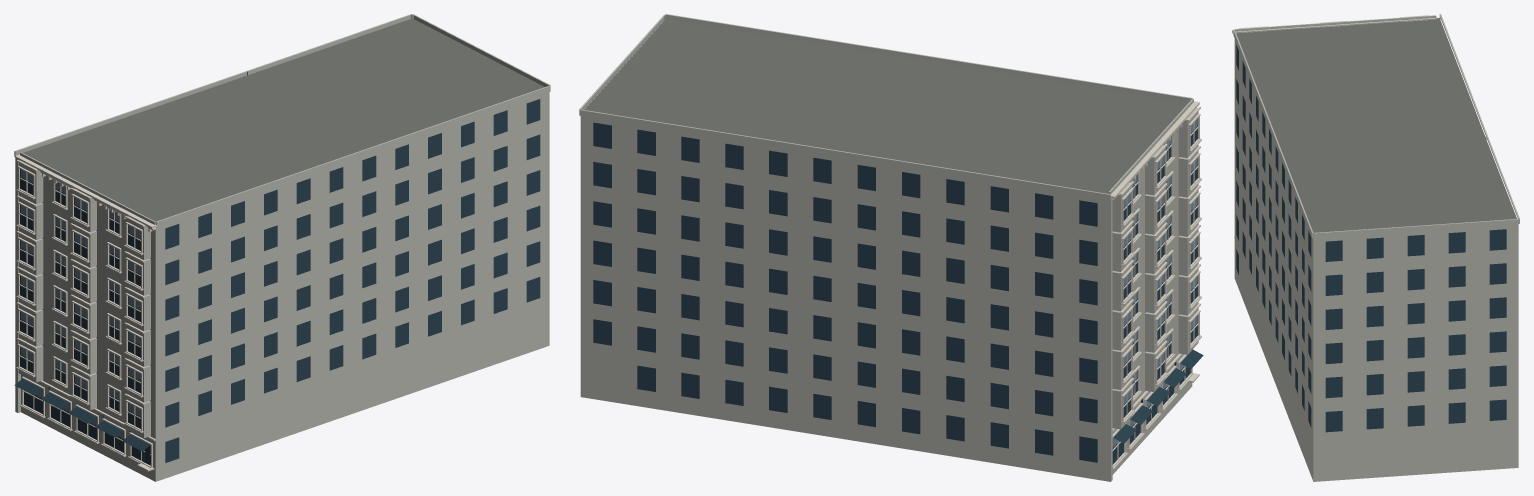
3 renders of one model, left to right at view 1: azimuth 30°, elevation 25°; view 2: azimuth 150°, elevation 25°; view 3: azimuth 270°, elevation 25°, orthographic. The views are drawn at different scales.
Parts seen in each view (by area): view 1: Footprint 0 / surface 2, Footprint 0 / surface 1, Inset glazing, Facade bay volumes, Cornices and window frames, Sky reflection panels, Storefronts and doors; view 2: Footprint 0 / surface 2, Footprint 0 / surface 1, Inset glazing, Facade bay volumes, Cornices and window frames, Sky reflection panels, Storefronts and doors; view 3: Footprint 0 / surface 2, Footprint 0 / surface 1, Inset glazing, Facade bay volumes, Cornices and window frames.
Part boxes in pixels (x1=…): Footprint 0 / surface 2: x1=15, y1=92, x2=549, y2=481; Footprint 0 / surface 1: x1=15, y1=18, x2=544, y2=221; Inset glazing: x1=20, y1=99, x2=540, y2=465; Facade bay volumes: x1=14, y1=14, x2=550, y2=437; Cornices and window frames: x1=15, y1=154, x2=156, y2=471; Sky reflection panels: x1=20, y1=169, x2=150, y2=452; Storefronts and doors: x1=14, y1=375, x2=149, y2=462; Footprint 0 / surface 2: x1=580, y1=116, x2=1192, y2=481; Footprint 0 / surface 1: x1=584, y1=19, x2=1188, y2=197; Inset glazing: x1=593, y1=118, x2=1197, y2=464; Facade bay volumes: x1=579, y1=14, x2=1198, y2=429; Cornices and window frames: x1=1111, y1=101, x2=1201, y2=469; Sky reflection panels: x1=1112, y1=119, x2=1197, y2=447; Storefronts and doors: x1=1113, y1=349, x2=1203, y2=443; Footprint 0 / surface 2: x1=1234, y1=39, x2=1518, y2=481; Footprint 0 / surface 1: x1=1236, y1=18, x2=1516, y2=232; Inset glazing: x1=1236, y1=45, x2=1506, y2=432; Facade bay volumes: x1=1233, y1=14, x2=1519, y2=238; Cornices and window frames: x1=1232, y1=15, x2=1437, y2=237.
Size of the model in its own units: 44.44 by 23.2 by 24.31.
